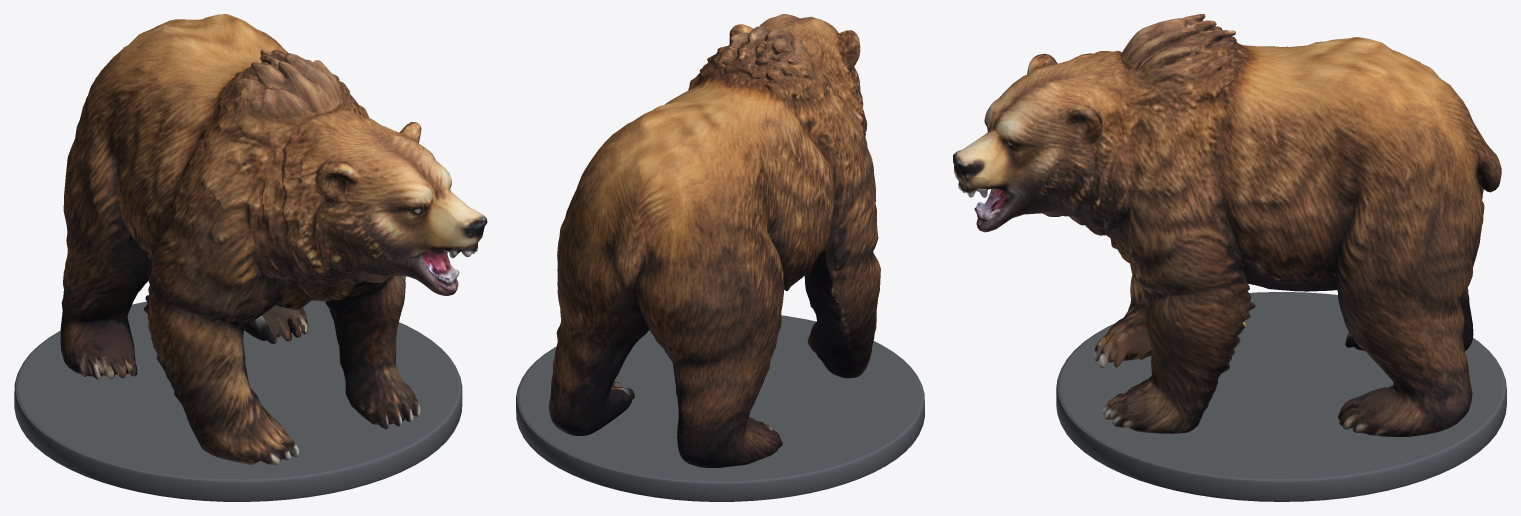
The model's file is brown-bear.glb.
The picture shows the model from 3 angles, left to right: view 1: azimuth 30°, elevation 25°; view 2: azimuth 150°, elevation 25°; view 3: azimuth 270°, elevation 25°; orthographic projection. The views are drawn at different scales.
Visible parts, largest first — view 1: brown-bear_body, brown-bear_round_base; view 2: brown-bear_body, brown-bear_round_base; view 3: brown-bear_body, brown-bear_round_base.
Boxes of the visible parts, bbox=[...] form: brown-bear_body: bbox=[60, 14, 487, 465]; brown-bear_round_base: bbox=[14, 300, 462, 501]; brown-bear_body: bbox=[548, 14, 880, 467]; brown-bear_round_base: bbox=[516, 315, 924, 501]; brown-bear_body: bbox=[953, 14, 1501, 436]; brown-bear_round_base: bbox=[1056, 292, 1506, 501].
Bounding box in the file's own units: 1 × 0.9473 × 1.23.
2 materials, 1 textured.
